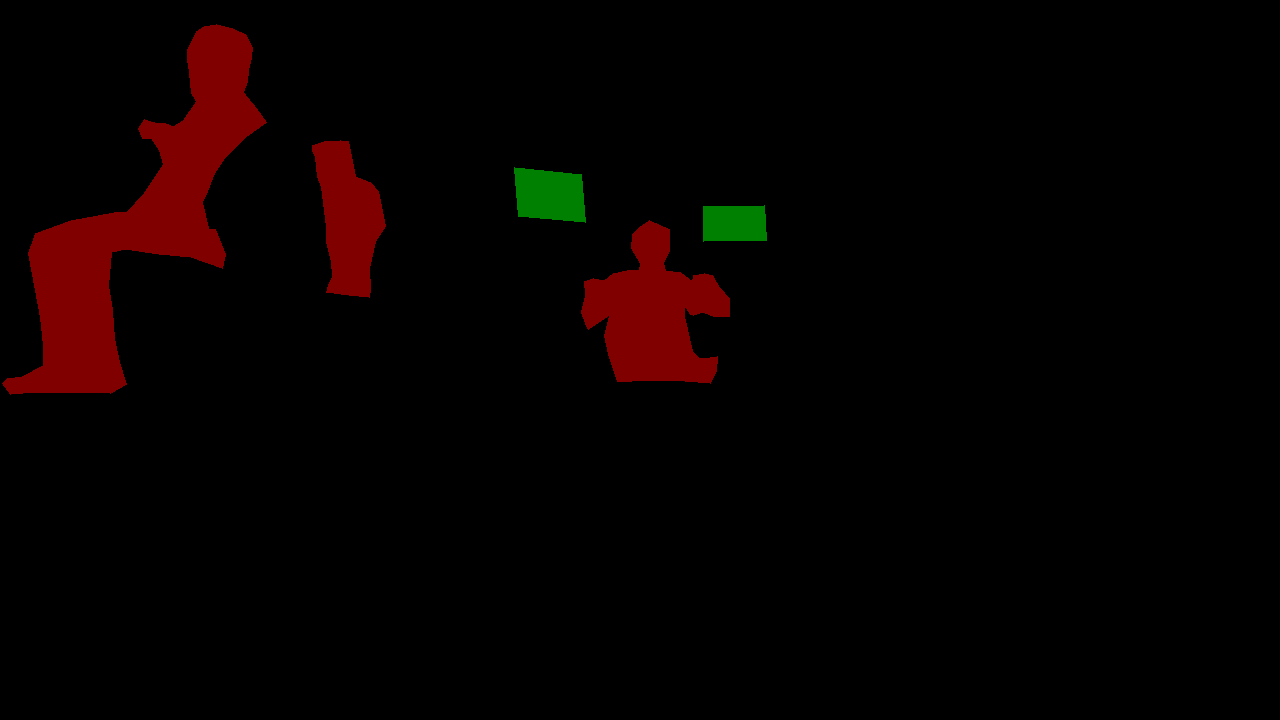person: (2, 24, 266, 394), (581, 220, 729, 383), (312, 140, 385, 297)
tvmonitor: (514, 167, 585, 222), (703, 205, 766, 241)
